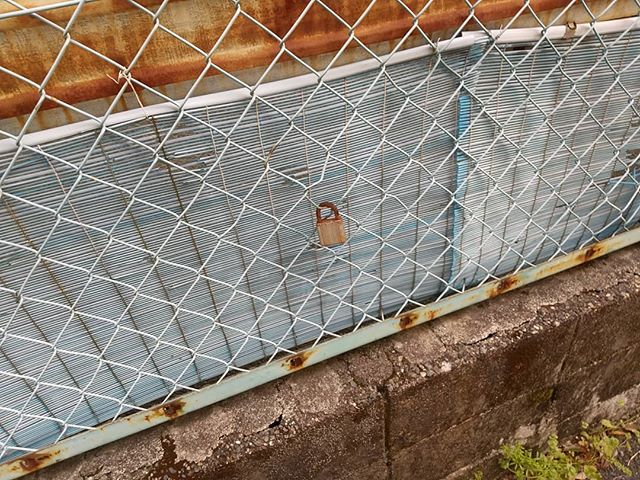lock: (296, 187, 359, 258)
